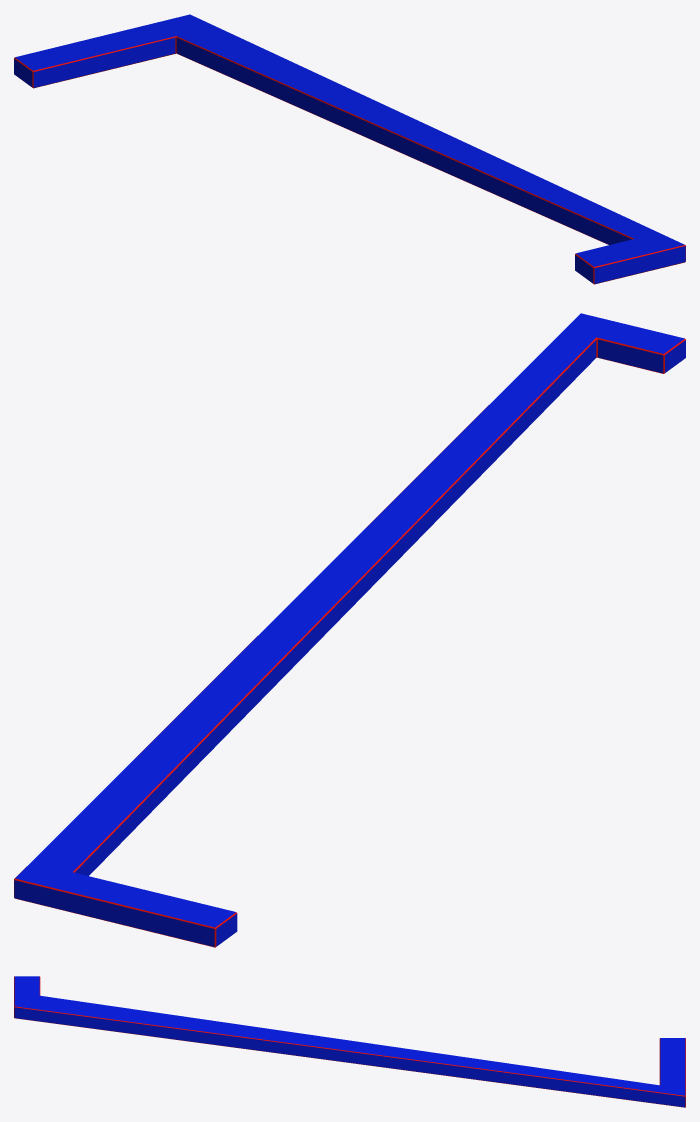
Rendered from L8_PP_Platform.fbx.
3 views of the same model, one above another, from view 1: azimuth 30°, elevation 25°; view 2: azimuth 150°, elevation 25°; view 3: azimuth 270°, elevation 25° (orthographic). The views are drawn at different scales.
Visible parts, largest first — view 1: L8_PP_Platform; view 2: L8_PP_Platform; view 3: L8_PP_Platform.
Part boxes in pixels (bbox=[...]): L8_PP_Platform: bbox=[14, 14, 685, 284]; L8_PP_Platform: bbox=[14, 313, 685, 947]; L8_PP_Platform: bbox=[14, 976, 685, 1107].
Size of the model in its own units: 1050 by 852 by 5100.
